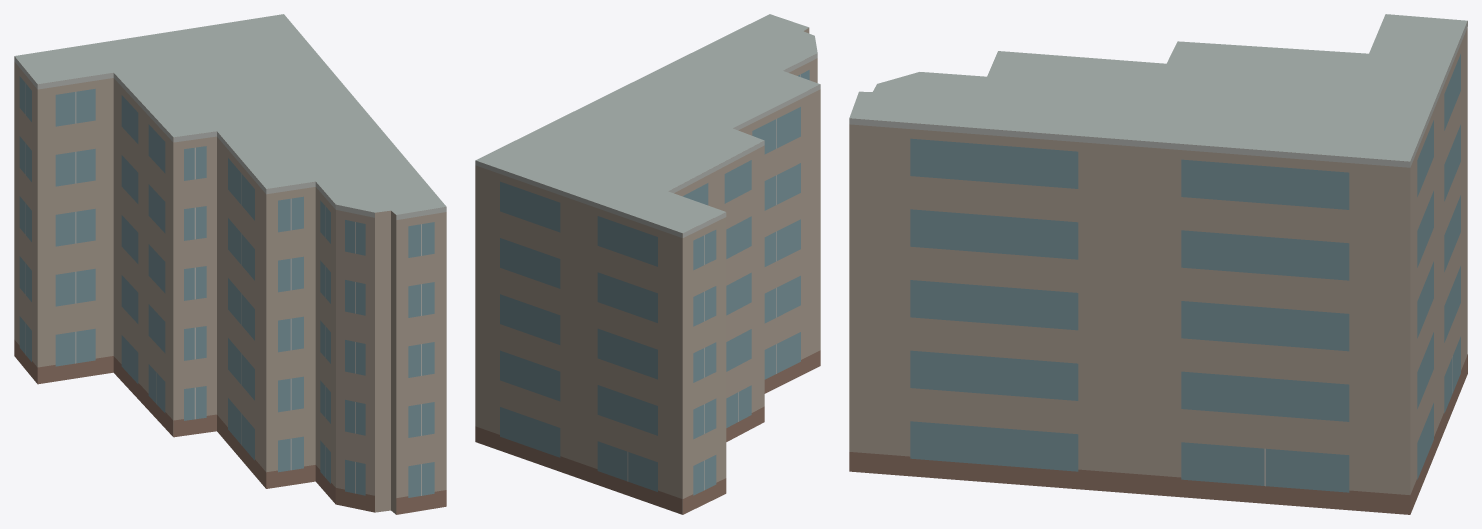
The model's file is survey-upis-32931429.glb.
3 renders of one model, left to right at view 1: azimuth 30°, elevation 25°; view 2: azimuth 150°, elevation 25°; view 3: azimuth 270°, elevation 25°, orthographic. The views are drawn at different scales.
Visible parts, largest first — view 1: survey-upis-32931429.tmp; view 2: survey-upis-32931429.tmp; view 3: survey-upis-32931429.tmp.
Boxes of the visible parts, bbox=[...] form: survey-upis-32931429.tmp: bbox=[14, 14, 446, 514]; survey-upis-32931429.tmp: bbox=[475, 14, 820, 514]; survey-upis-32931429.tmp: bbox=[849, 14, 1467, 514].
Bounding box in the file's own units: 12.55 × 14 × 22.22.
